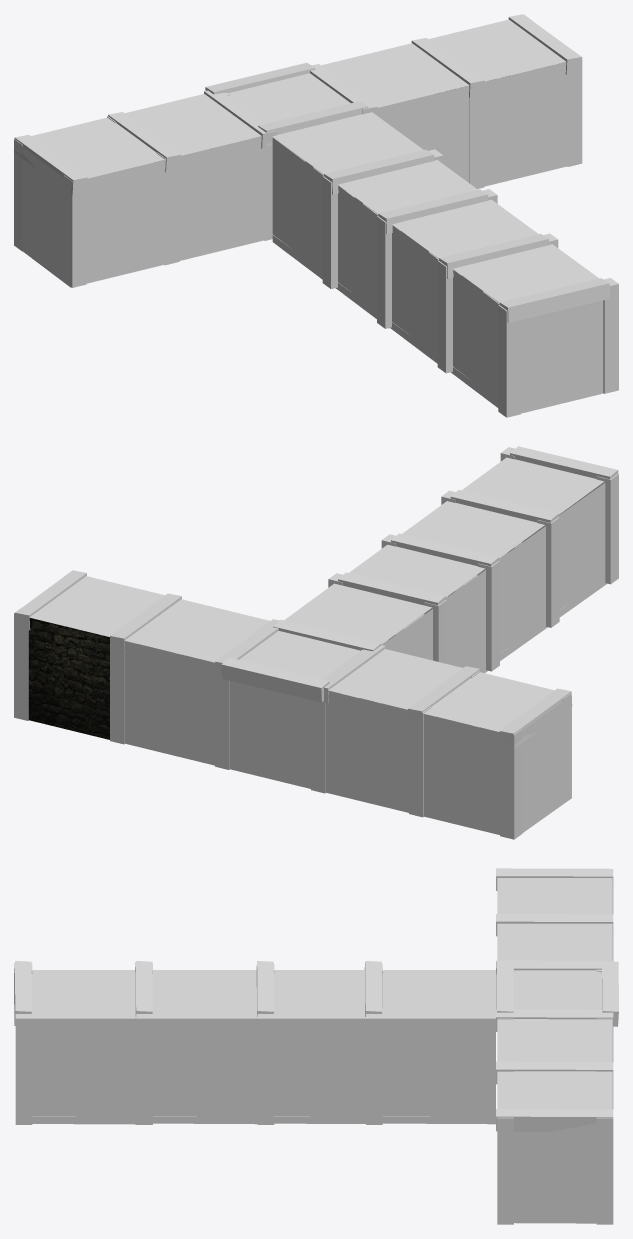
Rendered from Wall01.fbx.
The picture shows the model from 3 angles, top to bottom: view 1: azimuth 30°, elevation 25°; view 2: azimuth 150°, elevation 25°; view 3: azimuth 270°, elevation 25°; orthographic projection.
Parts seen in each view (by area): view 1: Castle_Wall01, Castle_Celling01, Castle_Beam01, Cube.017, Cube.011, Cube.003, Floor01.007, Cube.029, Cube.010, Floor01.006, Floor01.009, Floor01.005 (+18 smaller); view 2: Castle_Celling01, Castle_Wall01, Cube.009, Castle_Beam01, Cube.001, Cube.008, Cube.018, Cube.002, Cube.029, Floor01.007, Floor01.006, Floor01.009 (+18 smaller); view 3: Castle_Wall01, Castle_Celling01, Castle_Beam01, Cube.047, Floor01.007, Floor01.006, Floor01.009, Floor01.005, Floor01.008, Cube.028, Cube.051, Cube.006 (+9 smaller).
Part boxes in pixels (bbox=[...]): Castle_Wall01: bbox=[272, 138, 603, 413]; Castle_Celling01: bbox=[272, 112, 598, 302]; Castle_Beam01: bbox=[322, 149, 558, 373]; Cube.017: bbox=[179, 136, 264, 260]; Cube.011: bbox=[484, 62, 567, 186]; Cube.003: bbox=[86, 160, 164, 283]; Floor01.007: bbox=[321, 43, 469, 107]; Cube.029: bbox=[22, 147, 70, 287]; Cube.010: bbox=[377, 85, 469, 182]; Floor01.006: bbox=[428, 19, 565, 81]; Floor01.009: bbox=[125, 94, 261, 155]; Floor01.005: bbox=[31, 117, 164, 178]; Castle_Celling01: bbox=[284, 457, 604, 644]; Castle_Wall01: bbox=[381, 483, 606, 673]; Cube.009: bbox=[124, 641, 214, 765]; Castle_Beam01: bbox=[328, 490, 559, 671]; Cube.001: bbox=[325, 690, 408, 812]; Cube.008: bbox=[28, 618, 109, 739]; Cube.018: bbox=[423, 714, 499, 834]; Cube.002: bbox=[229, 680, 310, 788]; Cube.029: bbox=[522, 696, 571, 832]; Floor01.007: bbox=[125, 599, 269, 662]; Floor01.006: bbox=[30, 576, 164, 636]; Floor01.009: bbox=[329, 649, 462, 709]; Castle_Wall01: bbox=[32, 1018, 495, 1124]; Castle_Celling01: bbox=[31, 970, 496, 1018]; Castle_Beam01: bbox=[135, 961, 382, 1124]; Cube.047: bbox=[514, 1123, 596, 1223]; Floor01.007: bbox=[497, 1019, 612, 1061]; Floor01.006: bbox=[497, 1071, 612, 1109]; Floor01.009: bbox=[497, 923, 612, 960]; Floor01.005: bbox=[497, 878, 612, 914]; Floor01.008: bbox=[513, 970, 601, 1009]; Cube.028: bbox=[496, 1109, 613, 1131]; Cube.051: bbox=[15, 1012, 32, 1124]; Cube.006: bbox=[596, 1117, 613, 1224].
Bounding box in the file's own units: 1022 × 215 × 1050.
